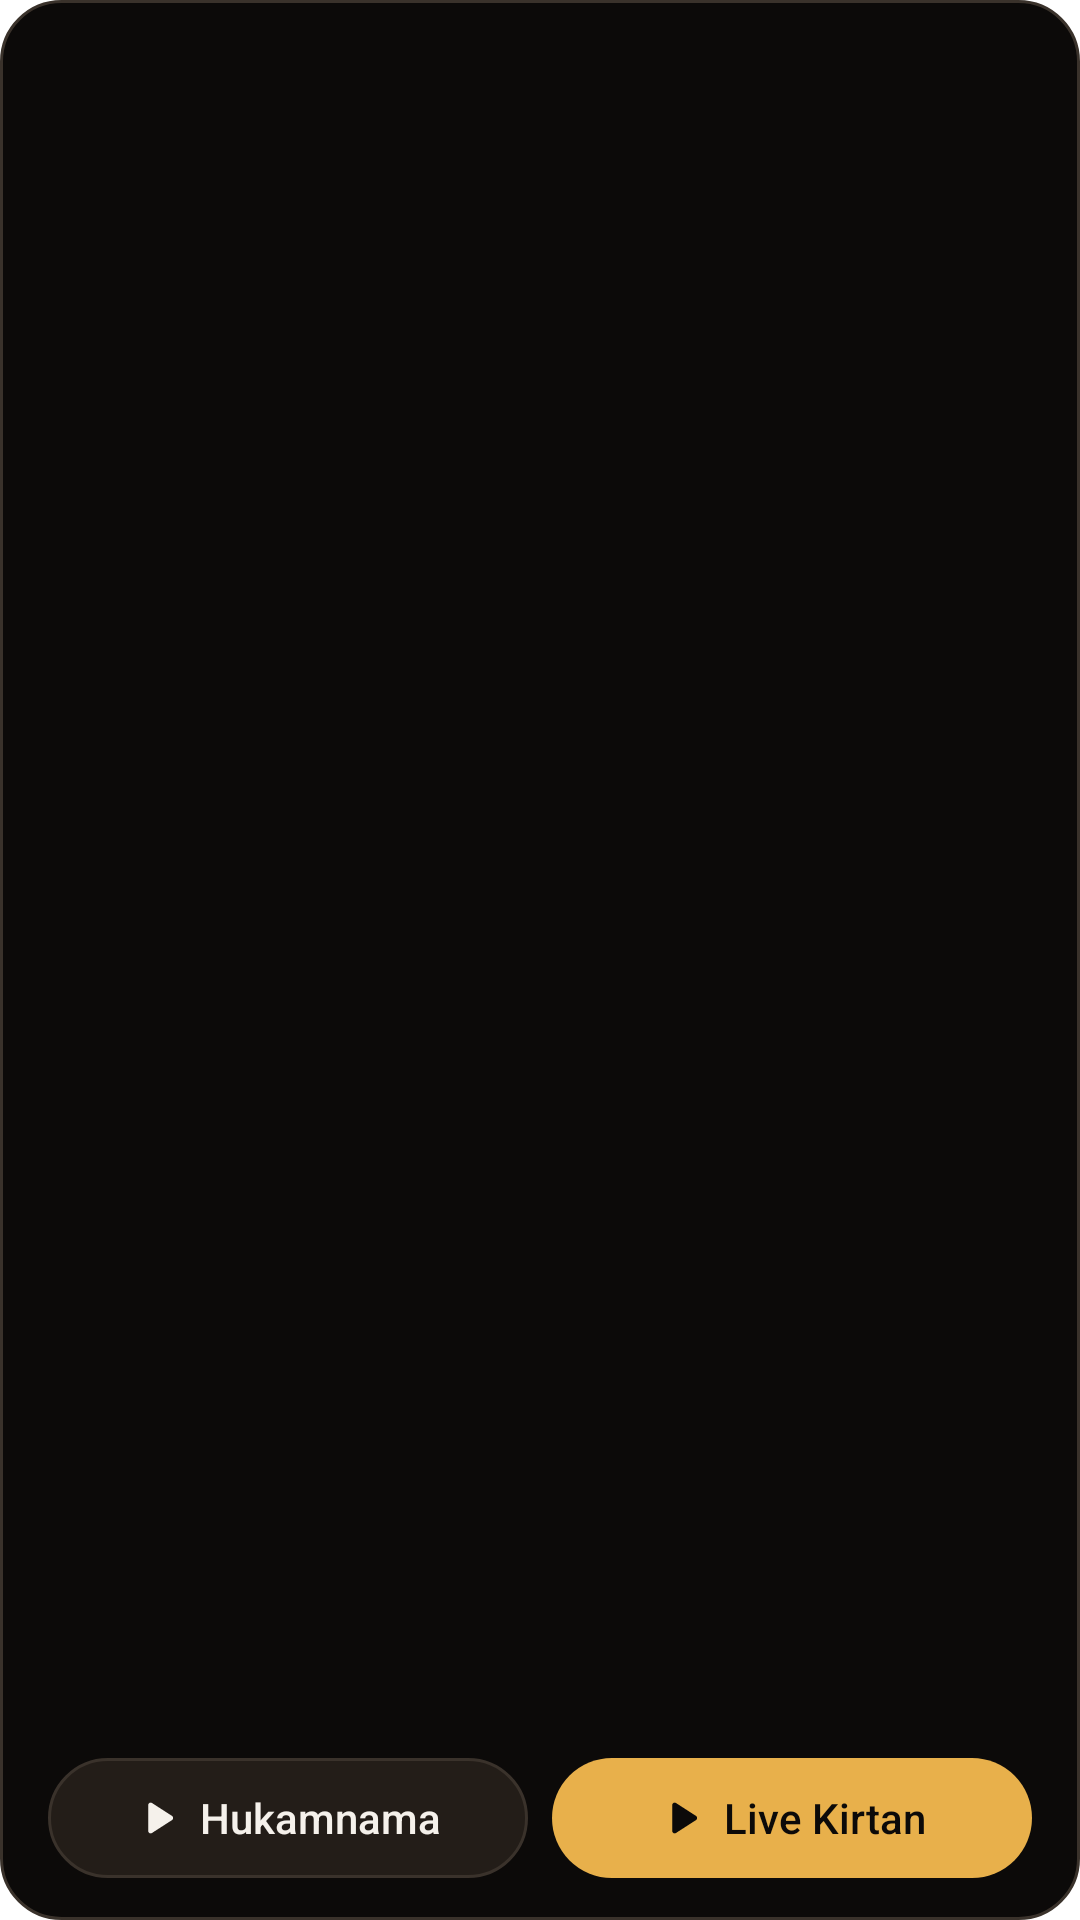

Screen size 1080px x 1920px. Icon name, then its center in pixels as (x,y):
widget play: (160,1818), (684,1818)
